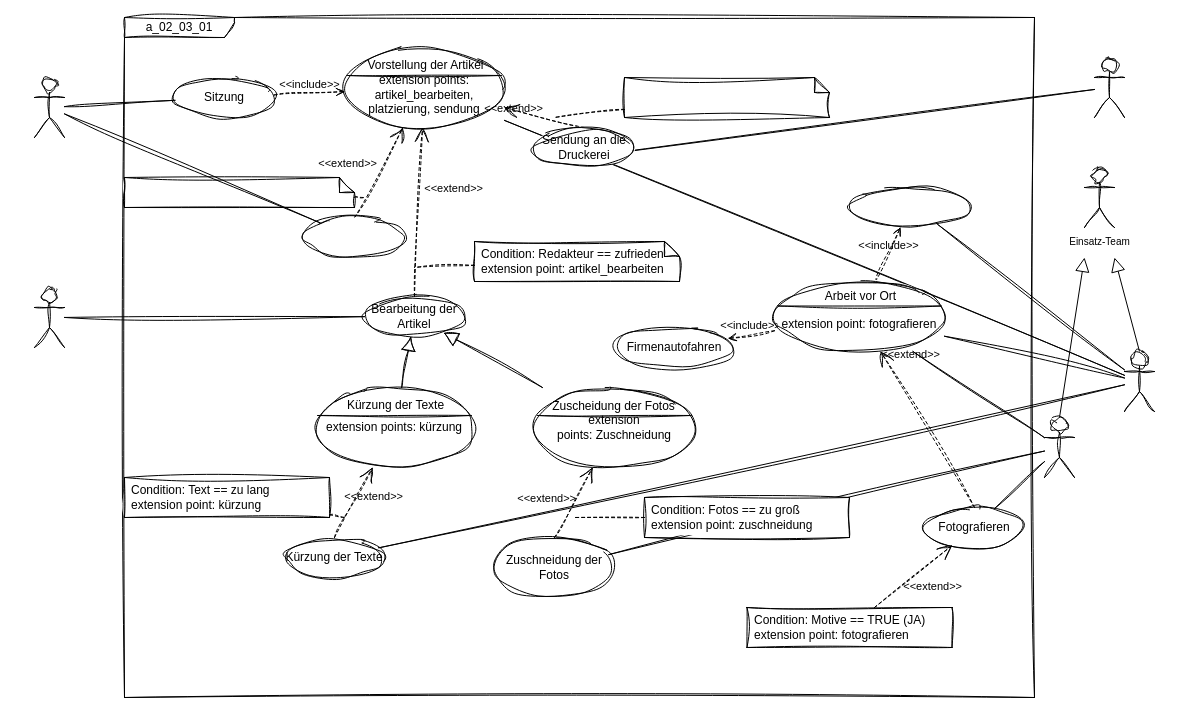
Some shapes in this 1178 by 715 pixel diagram are drawn without their labels. Each missing label, with the centre of its shape:
"Condition: Artikel auf einziger Seite > 1 extension point: platzierung" goes at (x=239, y=192).
"Condition: Seitengestaltung == abgeschlossen extension point: sendung" goes at (x=727, y=97).
"Druckerei" goes at (x=1109, y=87).
"Fotograf" goes at (x=1059, y=447).
"Grafikdesigner" goes at (x=49, y=317).
"Journalist" goes at (x=1139, y=381).
"Notizen" goes at (x=909, y=207).
"Platzierung der Artikel" goes at (x=354, y=237).
"Redakteur" goes at (x=49, y=107).
